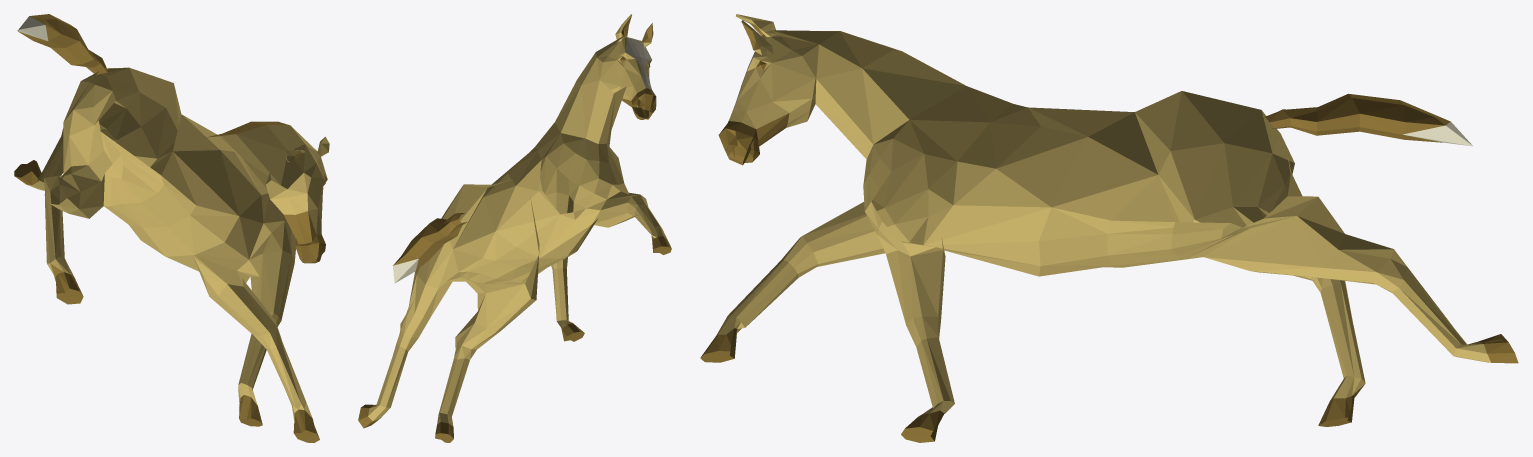
File: Horse_golden_v2_mirrored.glb
3 views of the same model, side by side, from view 1: azimuth 30°, elevation 25°; view 2: azimuth 150°, elevation 25°; view 3: azimuth 270°, elevation 25° (orthographic). The views are drawn at different scales.
Bounding box in the file's own units: 61.1 × 182 × 322.
